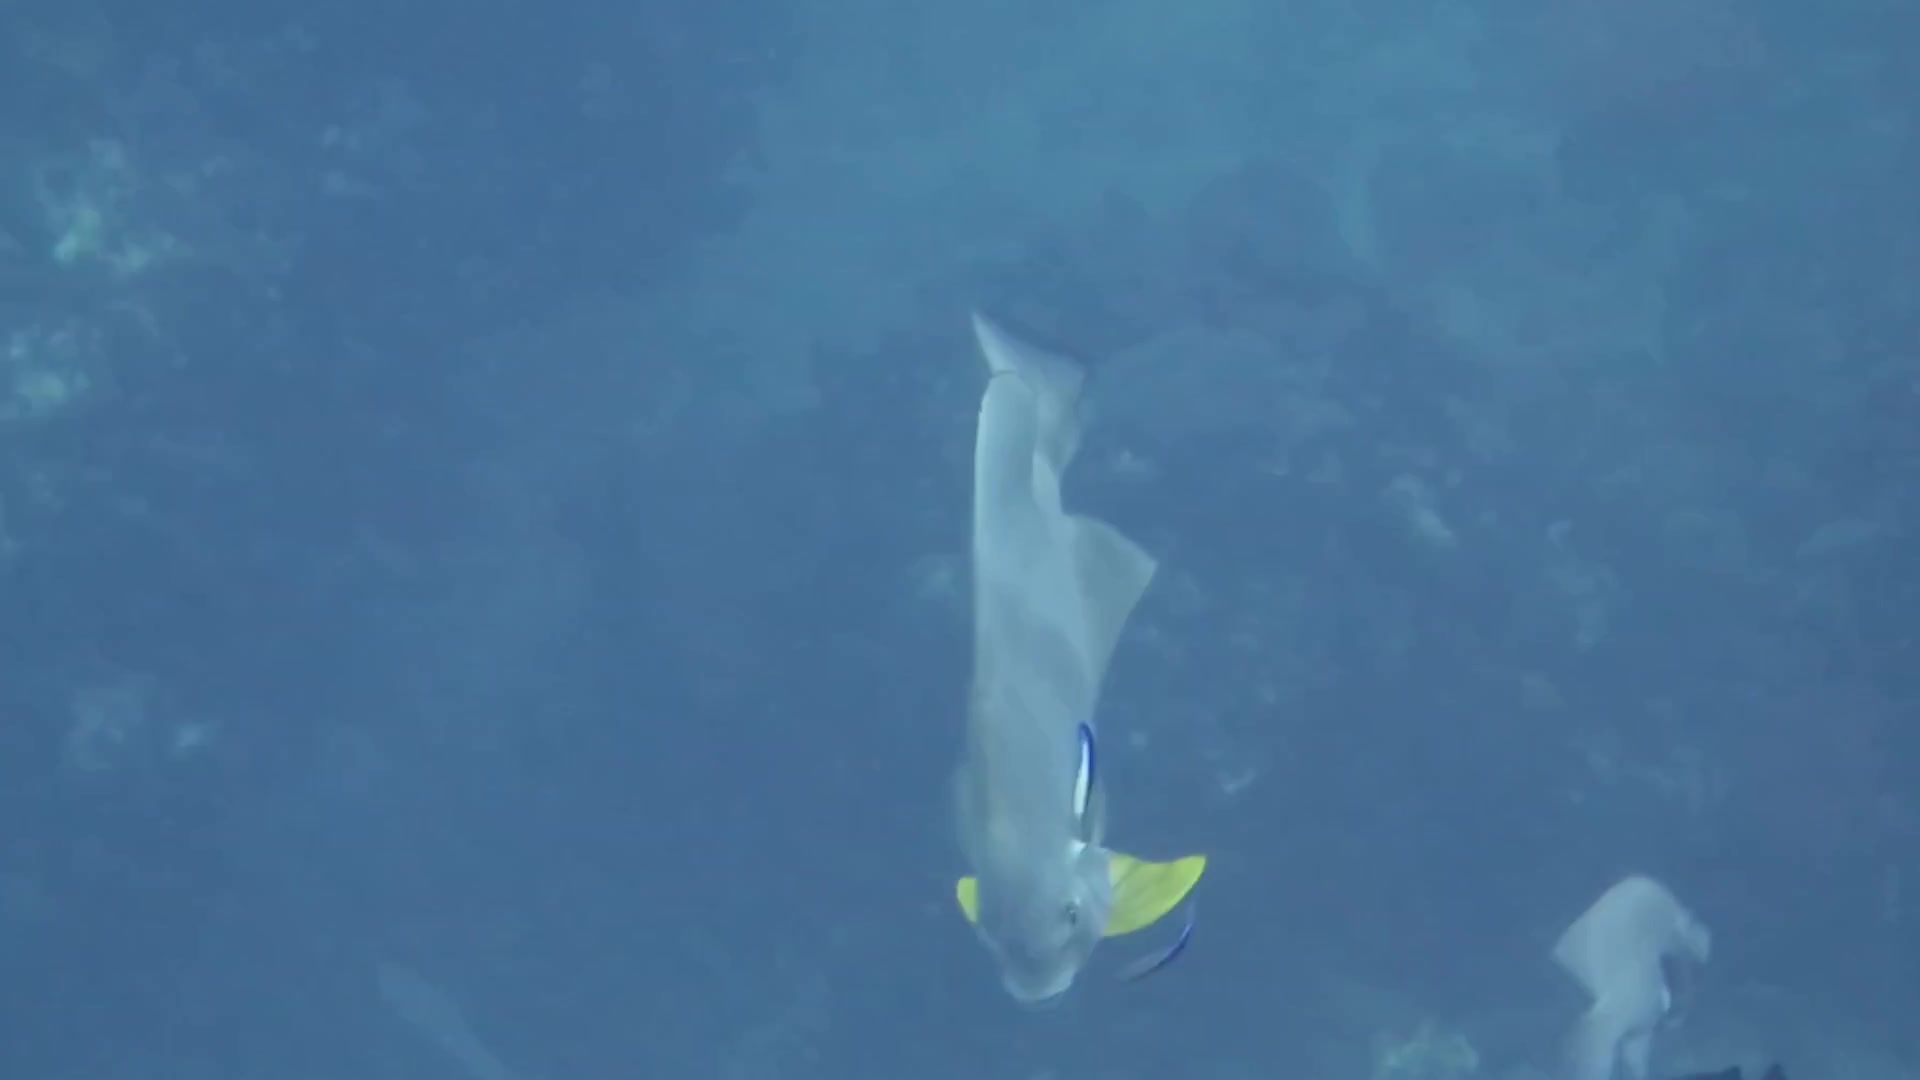Platax teira: (856, 287, 1232, 1047)
